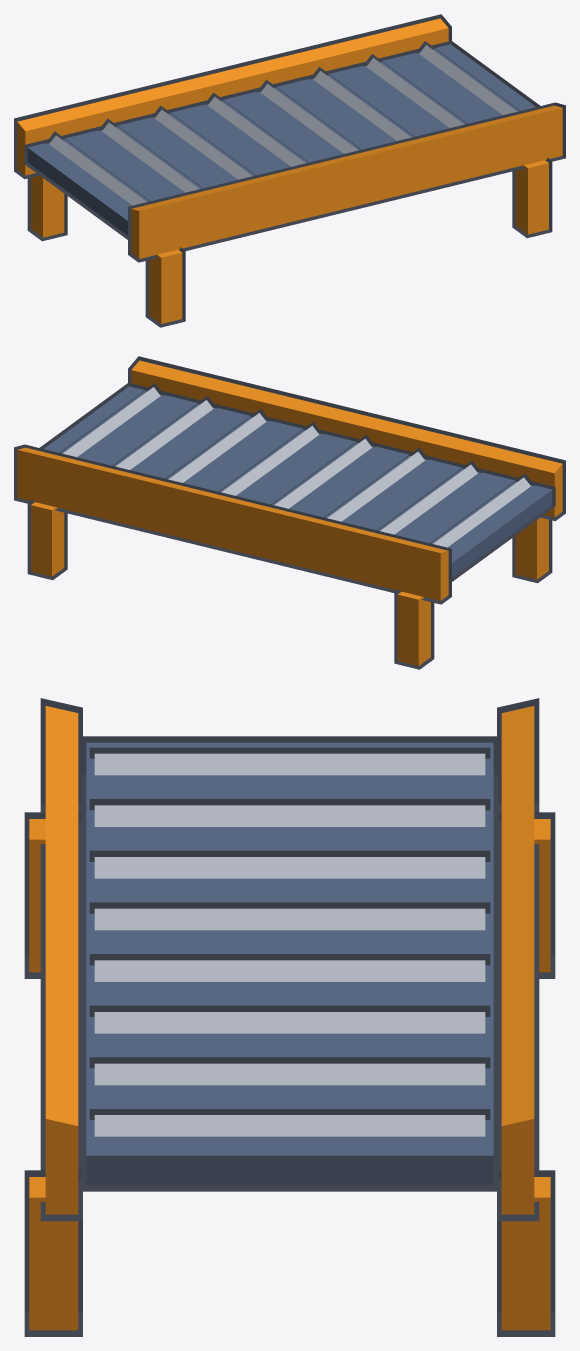
The model's file is conveyor_straight.glb.
The picture shows the model from 3 angles, top to bottom: view 1: azimuth 30°, elevation 25°; view 2: azimuth 150°, elevation 25°; view 3: azimuth 270°, elevation 25°; orthographic projection. The views are drawn at different scales.
Parts seen in each view (by area): view 1: frame, belt, ink_outline (×2); view 2: frame, belt, ink_outline (×2); view 3: belt, ink_outline (×2), frame.
Part boxes in pixels (box(x1,y1,x2,y2)): frame: box(17, 18, 562, 323); belt: box(27, 44, 535, 235); ink_outline (×2): box(14, 14, 565, 327); frame: box(17, 360, 562, 665); belt: box(44, 386, 552, 577); ink_outline (×2): box(14, 356, 565, 669); belt: box(86, 742, 493, 1185); ink_outline (×2): box(24, 698, 555, 1336); frame: box(29, 706, 550, 1330).
Size of the model in its own units: 0.1212 by 0.0324 by 0.0652.
